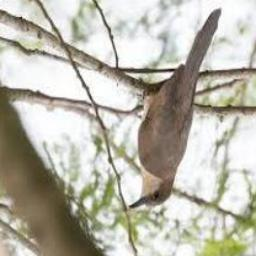Cuckoo: (129, 9, 222, 209)
